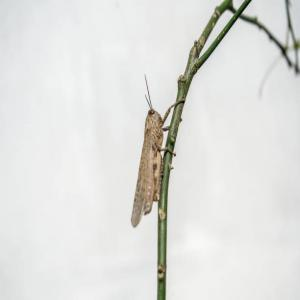locust: (121, 58, 179, 232)
